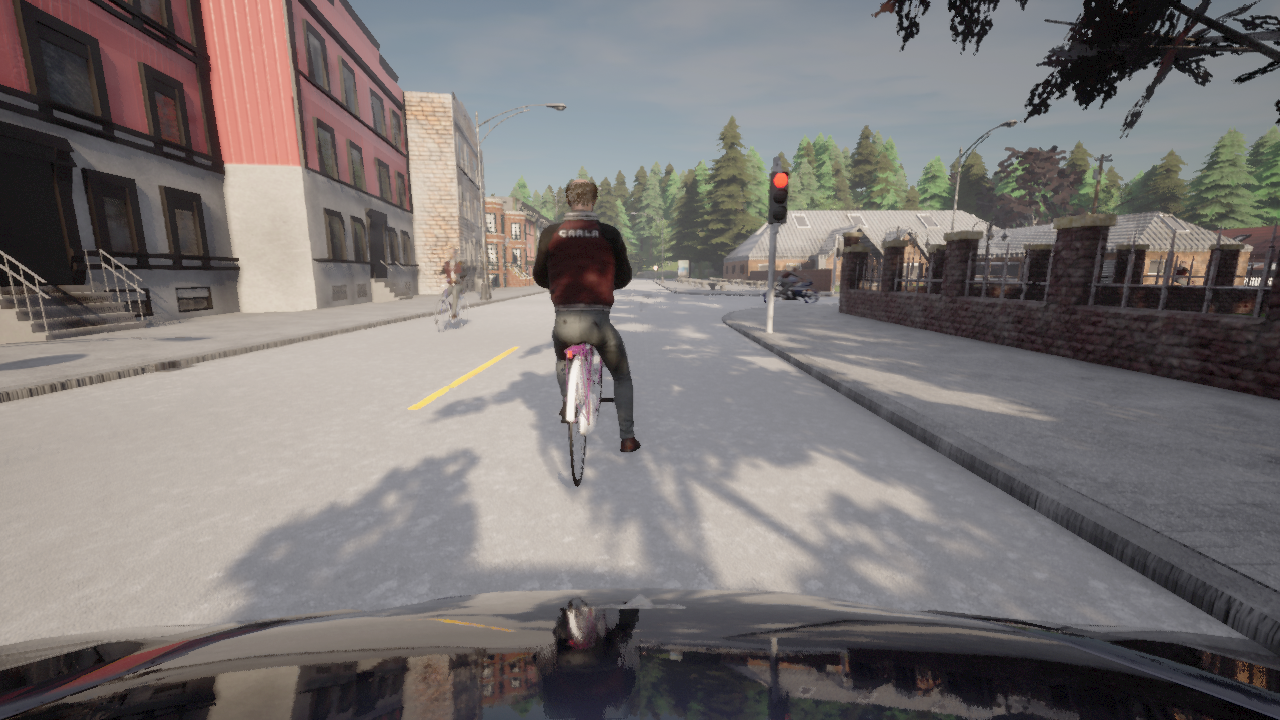cyclist: (0, 588, 1279, 719), (560, 343, 613, 486), (435, 277, 468, 332), (762, 273, 818, 303), (1177, 278, 1196, 285)
pedestrian: (1141, 277, 1143, 284)
